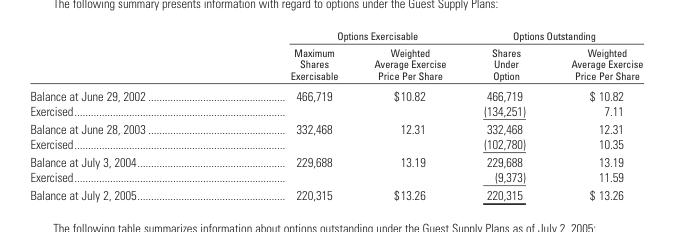table: (29, 28, 642, 201)
table column: (29, 28, 217, 201), (217, 28, 355, 201), (355, 28, 464, 201), (547, 28, 642, 201), (464, 28, 547, 201)
table column header: (29, 28, 642, 84)
table row: (29, 43, 642, 84), (29, 84, 642, 102), (29, 102, 642, 119), (29, 135, 642, 152), (29, 168, 642, 185), (29, 119, 642, 135), (29, 152, 642, 168), (29, 185, 642, 201), (29, 28, 642, 43)
table spanning cell: (217, 28, 464, 43), (464, 28, 642, 43)
